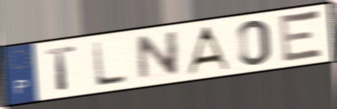0: (236, 18, 272, 67)
A: (183, 24, 233, 76)
E: (278, 8, 326, 65)
L: (91, 40, 130, 88)
N: (135, 29, 182, 84)
T: (43, 44, 78, 92)
